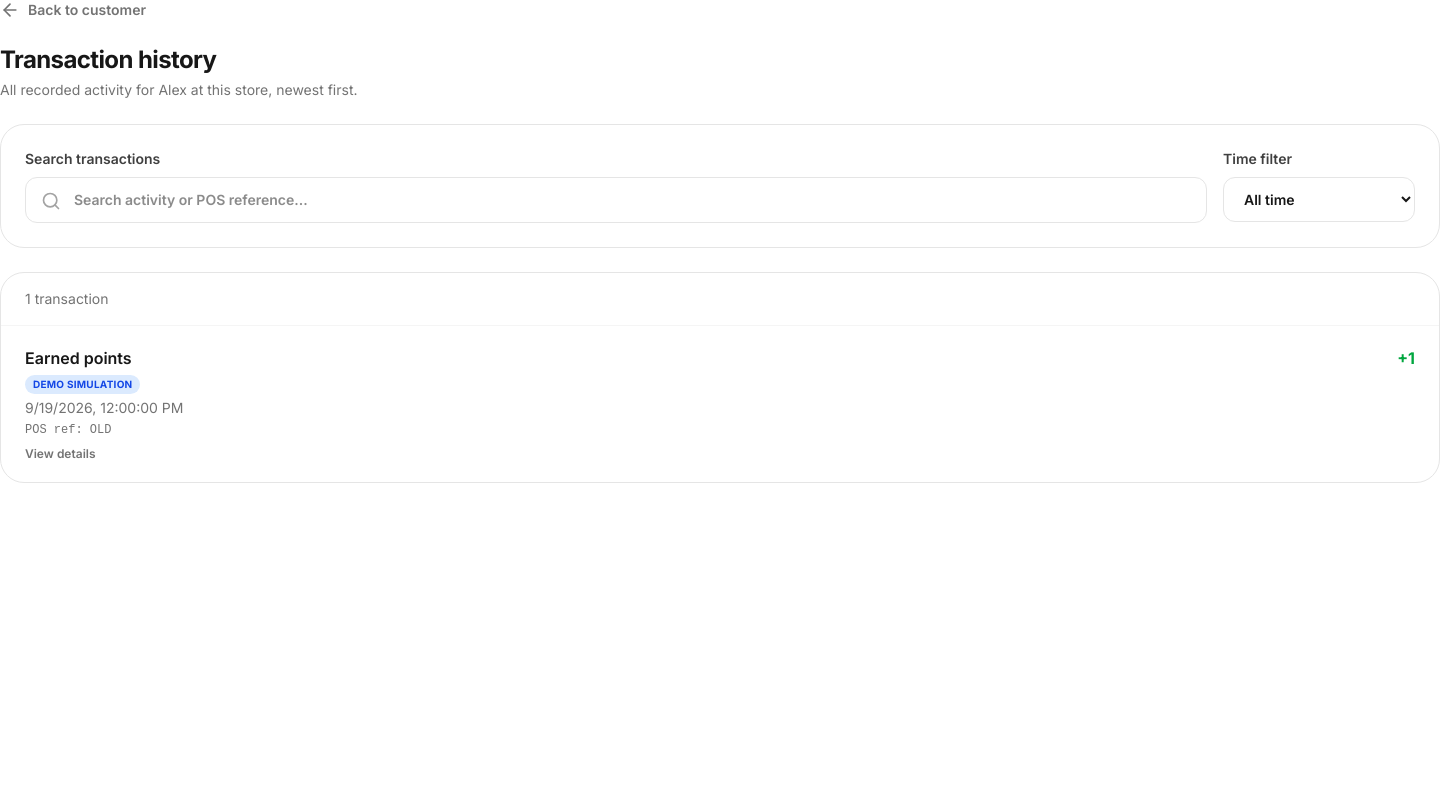
Test: customer transaction history › labels missing scanner information honestly for older records
Step 1. Click the button "Earned points" → (720,404), box [1, 326, 1439, 482]
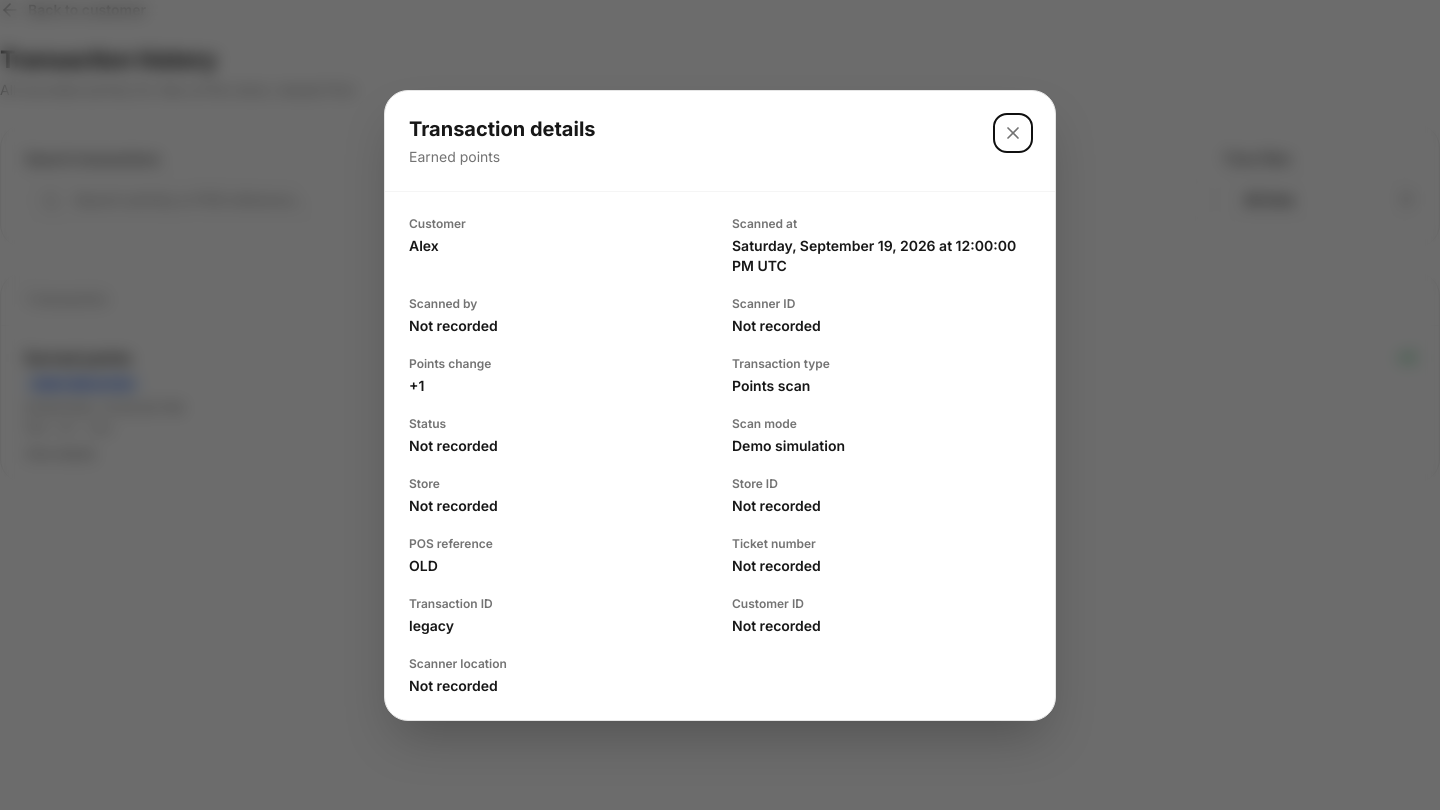
Now the text "Not recorded" below "Scanner ID" is shown, box [732, 316, 821, 334]
